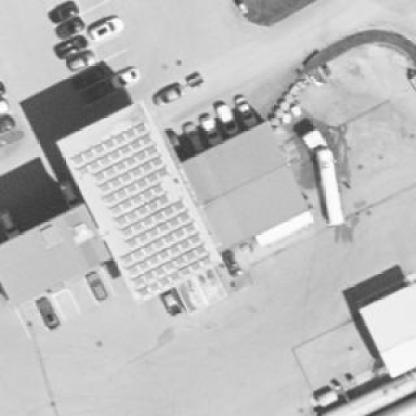solar-pv-panel: (72, 123, 147, 166), (121, 222, 196, 265), (133, 244, 208, 287), (137, 255, 212, 298), (126, 234, 201, 277), (76, 135, 151, 177), (104, 166, 168, 204), (98, 155, 162, 193), (128, 212, 191, 250), (122, 200, 186, 237), (93, 146, 157, 183), (111, 183, 162, 215), (116, 196, 168, 227)
